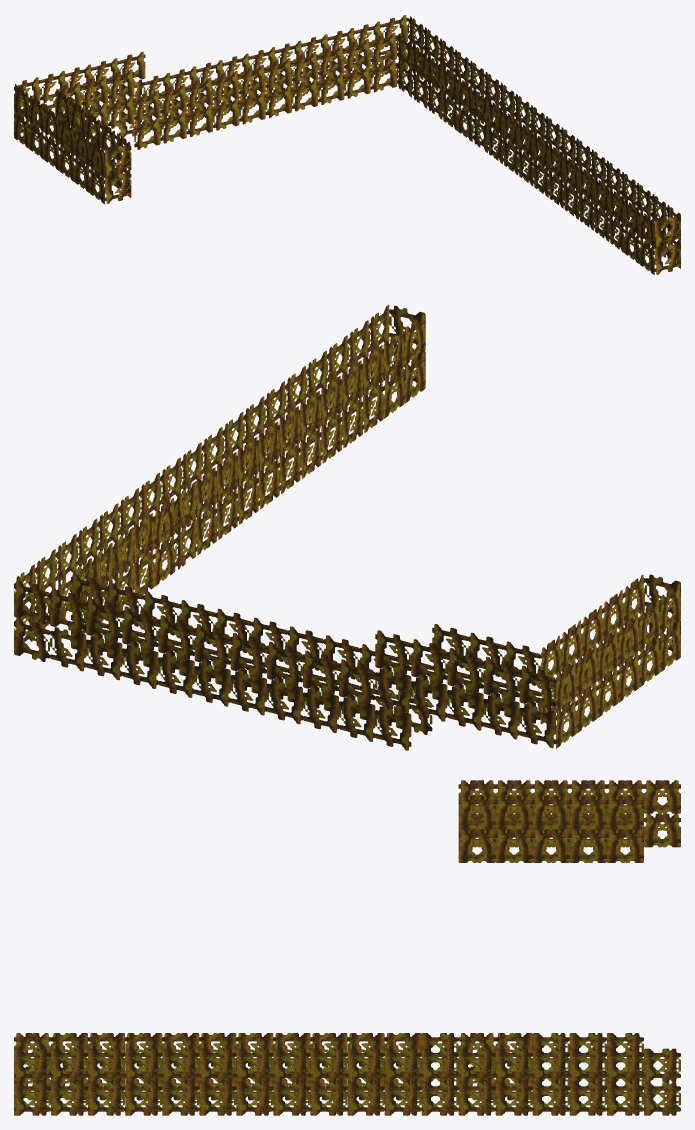
File: FenceLong.obj
3 views of the same model, one above another, from view 1: azimuth 30°, elevation 25°; view 2: azimuth 150°, elevation 25°; view 3: azimuth 270°, elevation 25° (orthographic). The views are drawn at different scales.
Visible parts, largest first — view 1: Default; view 2: Default; view 3: Default.
Boxes of the visible parts, x1,y1,x2,y2 form: Default: [14, 15, 680, 274]; Default: [14, 305, 680, 750]; Default: [14, 780, 680, 1115].
Size of the model in its own units: 15 by 3 by 18.
1 material, 1 textured.
